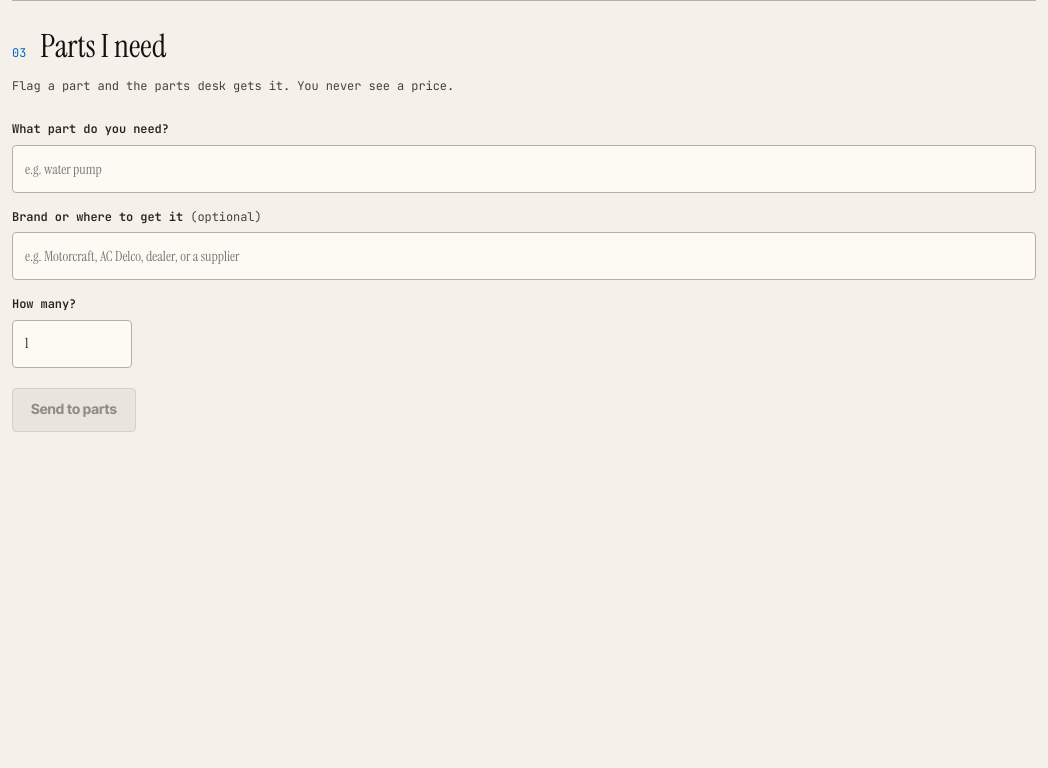
Test: PartsNeededPanel › flags a part and appends it, sending zero money to the server
In the field labelled "What part do you need?": {"x": 524, "y": 169} [12,145,1036,193], type " Water pump "
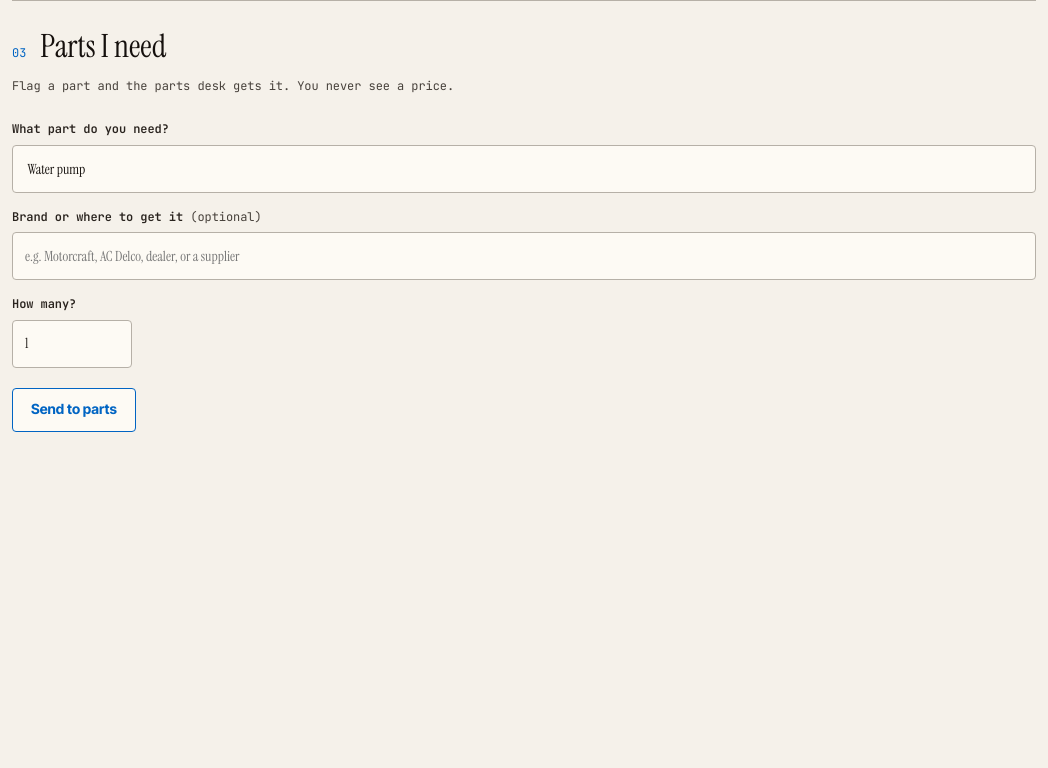
In the field labelled "Brand or where to get it (optional)": {"x": 524, "y": 256} [12,232,1036,280], type "Motorcraft"
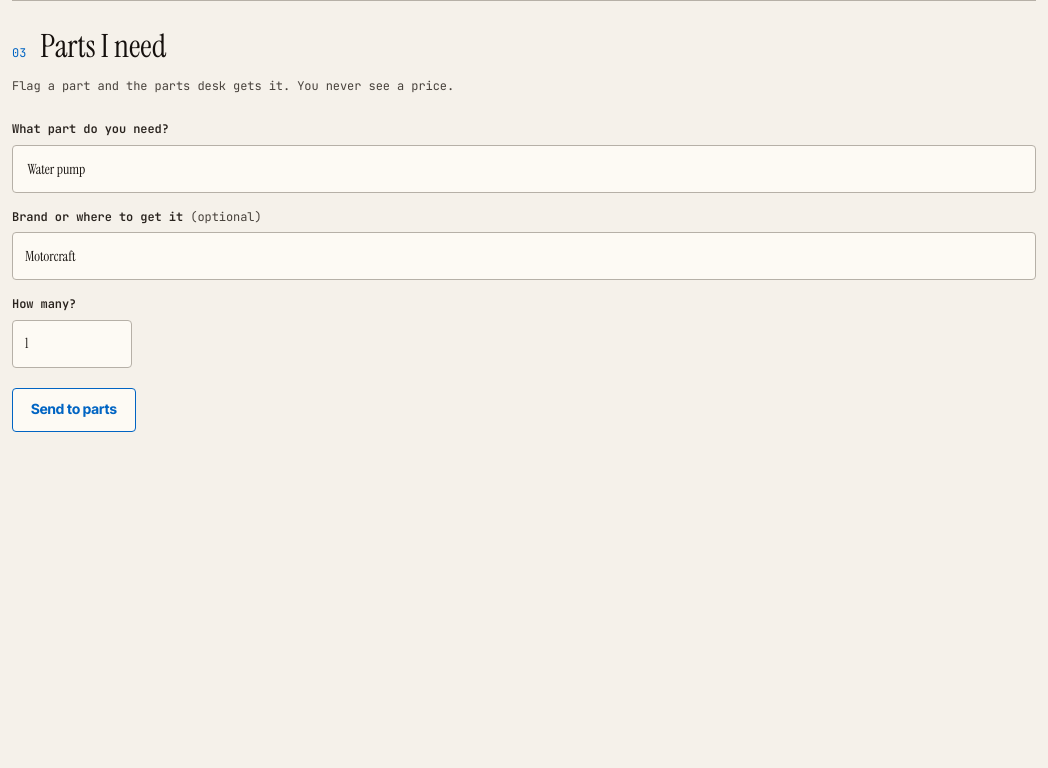
Replace the text in the number field labelled "How many?" with "2": {"x": 72, "y": 344} [12,320,132,368]
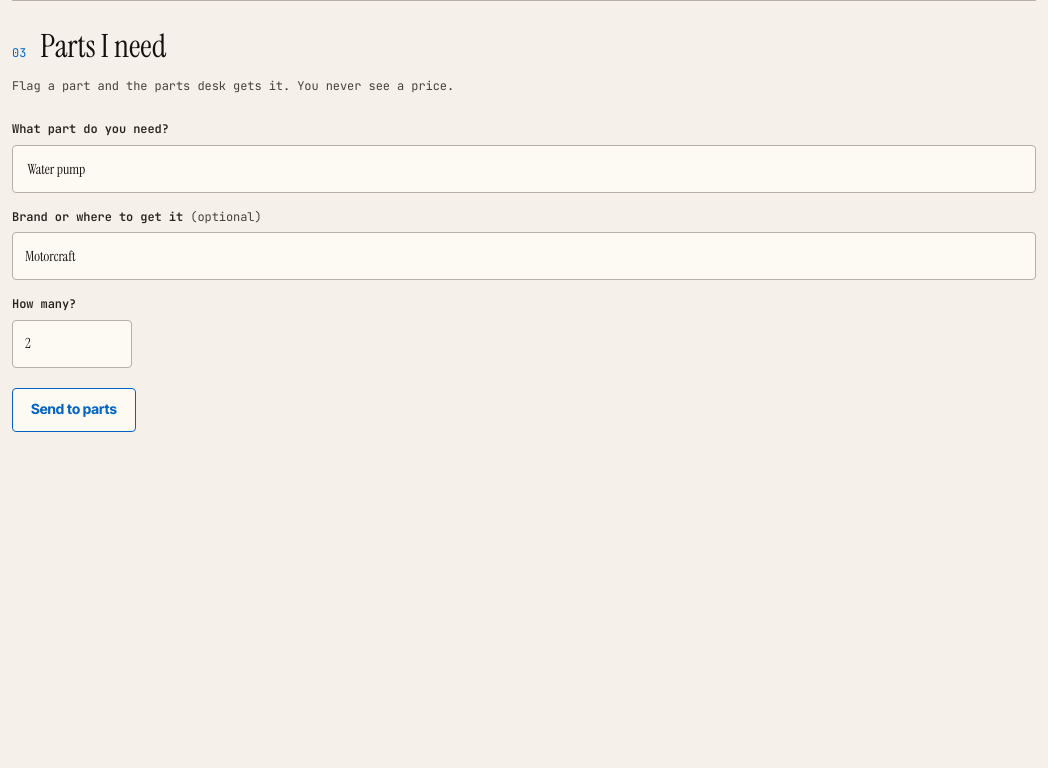
Click the button "Send to parts": {"x": 74, "y": 410} [12,388,136,432]
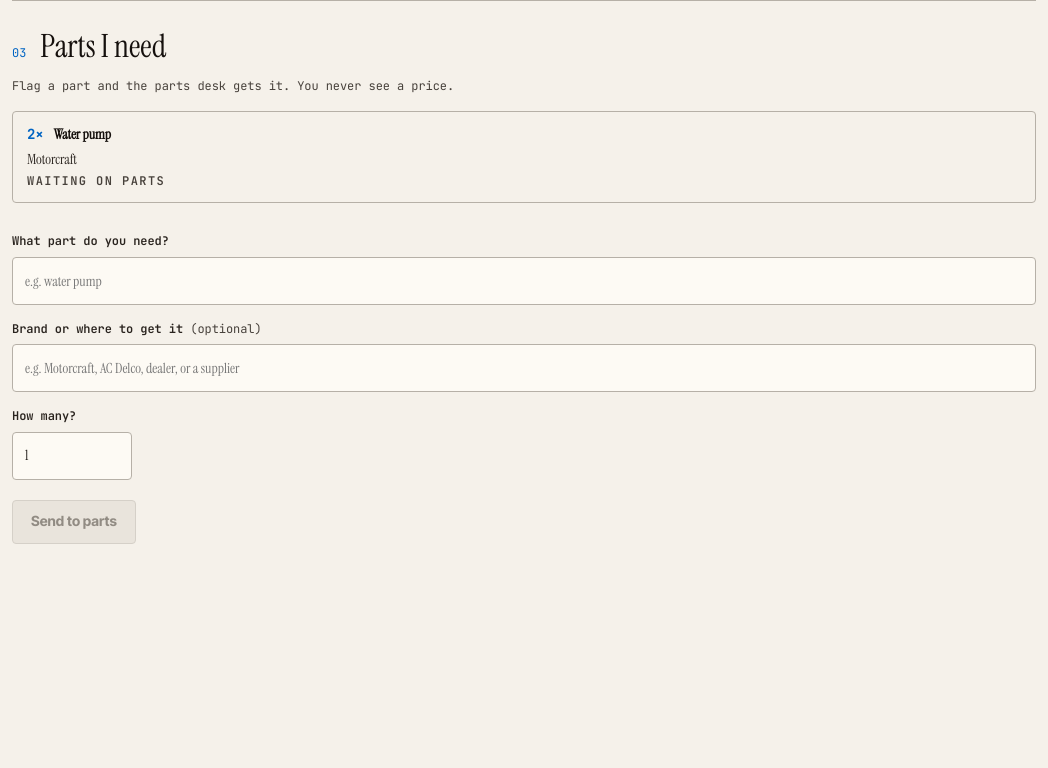
Check: the text "Water pump" is shown, box [54,124,111,145]
